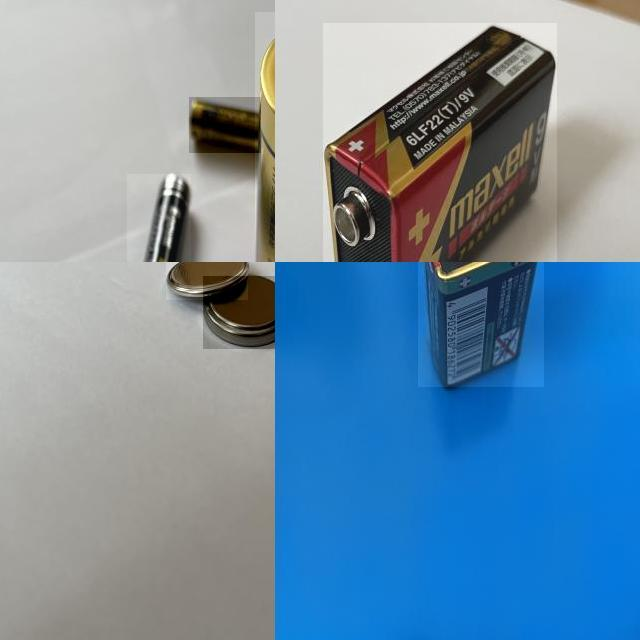9V: (323, 23, 557, 262), (418, 262, 544, 387)
